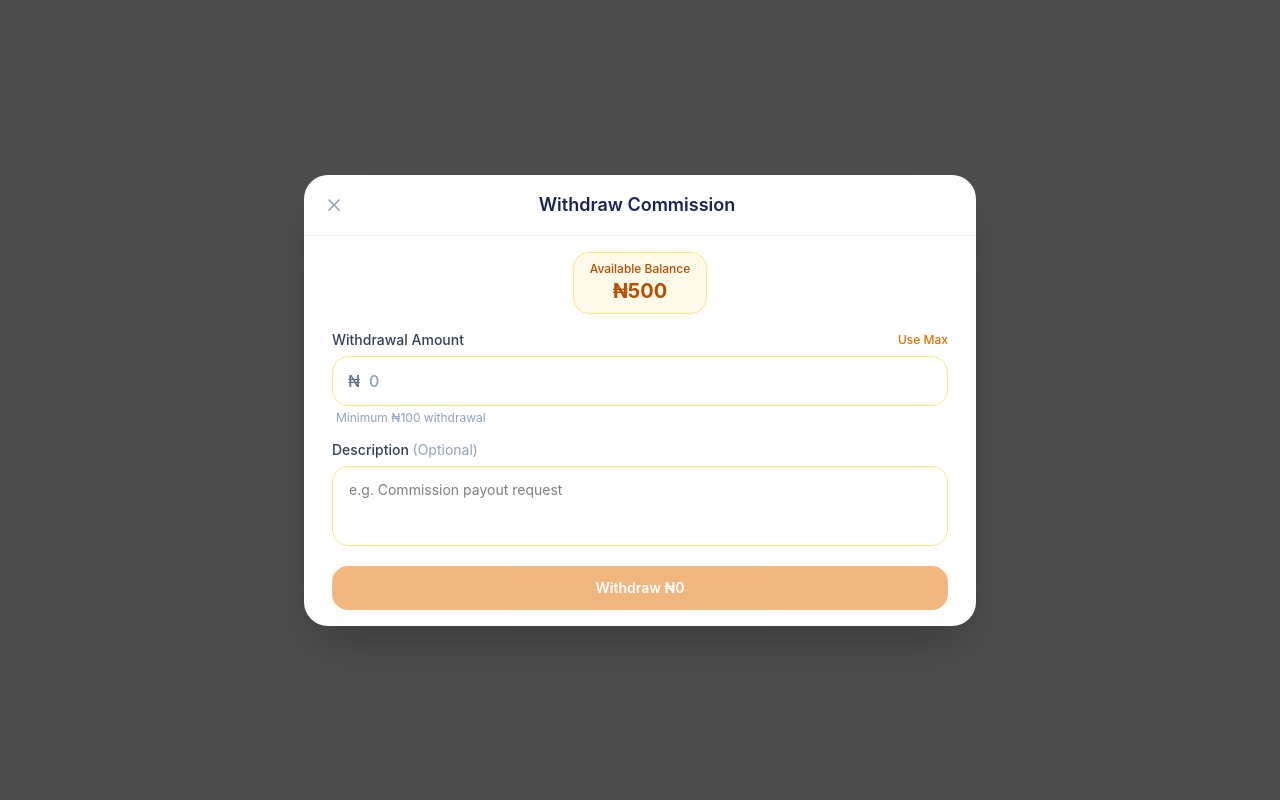
Test: withdrawal flows › AgentWithdrawModal › shows success state after submission
The width and height of the screenshot is (1280, 800).
Type "200" into the number field with placeholder "0". click: point(640, 380)
box: [332,356,948,406]
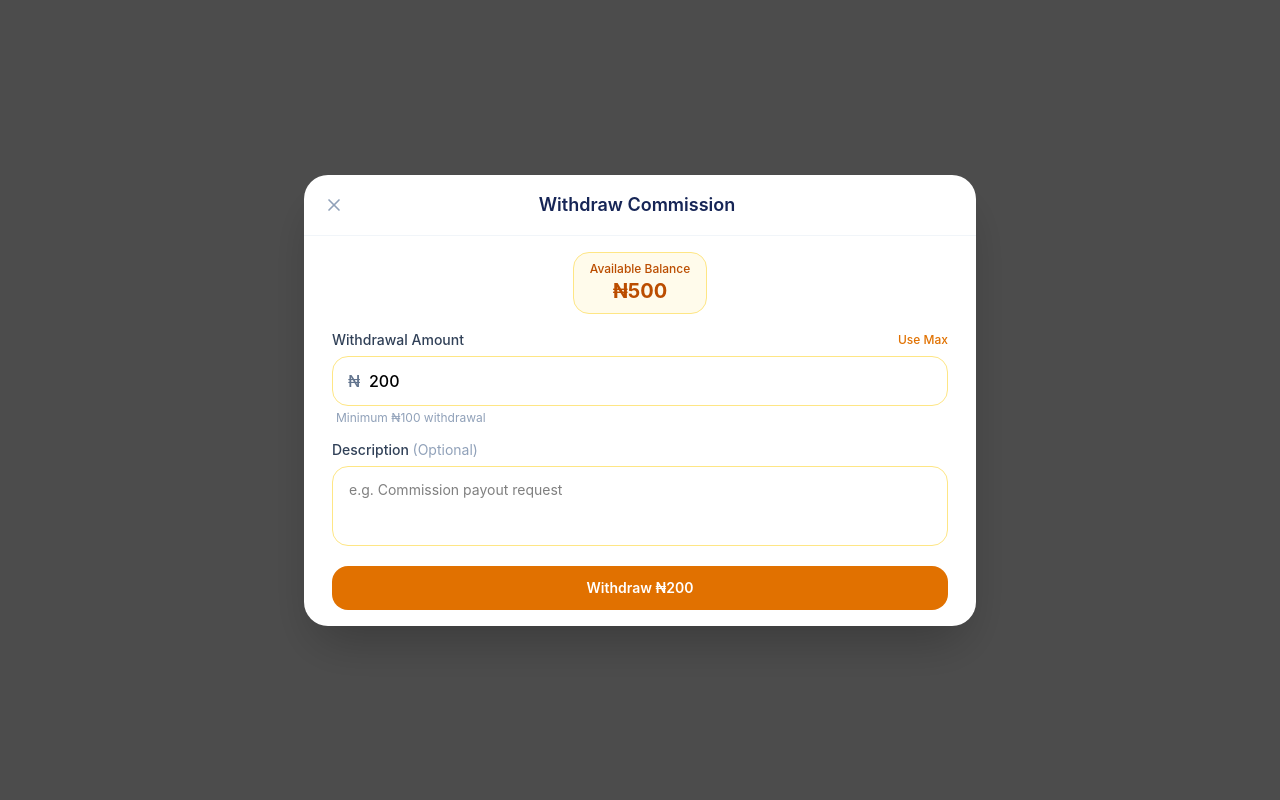
Click the button "Withdraw ₦200". click: point(640, 588)
box: [332,566,948,610]
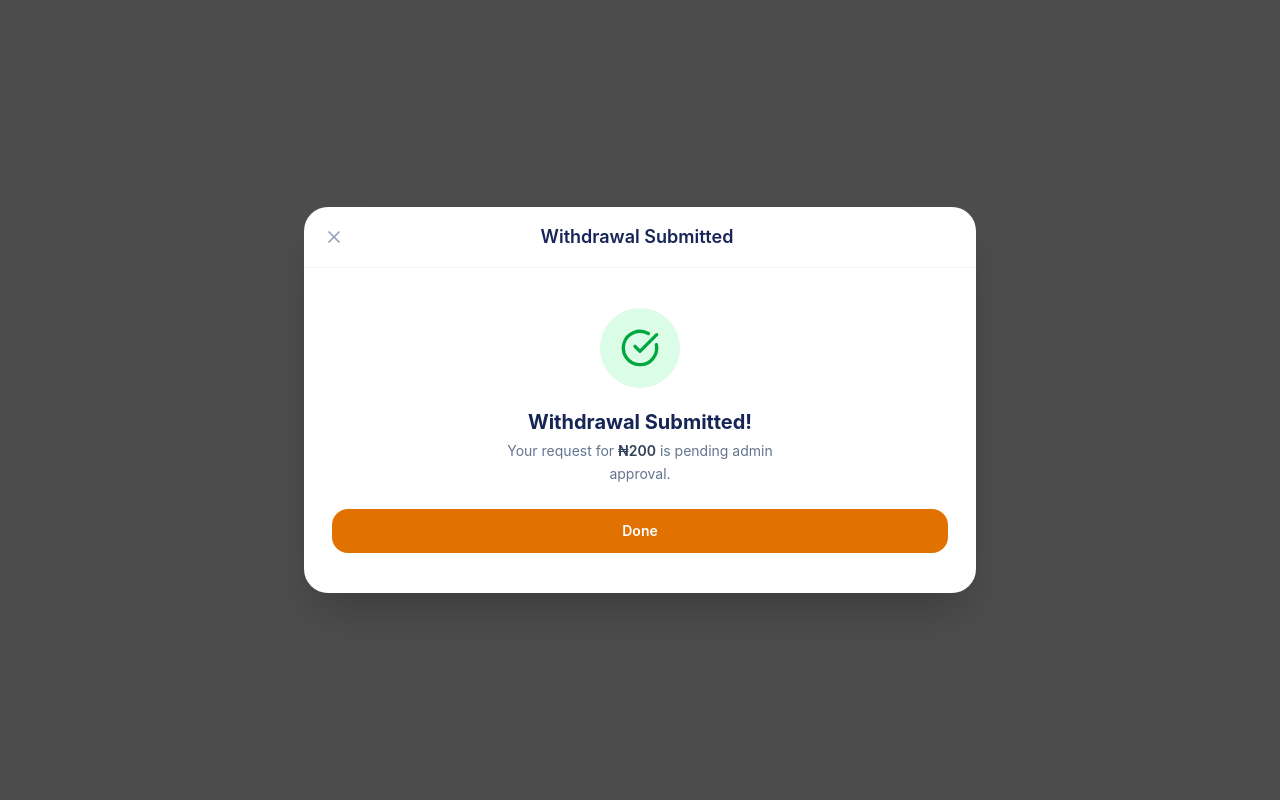
Expected: the text "₦200" is shown, [618,442,656,459]
Expected: the heading "Withdrawal Submitted!" is shown, [528,408,752,436]
